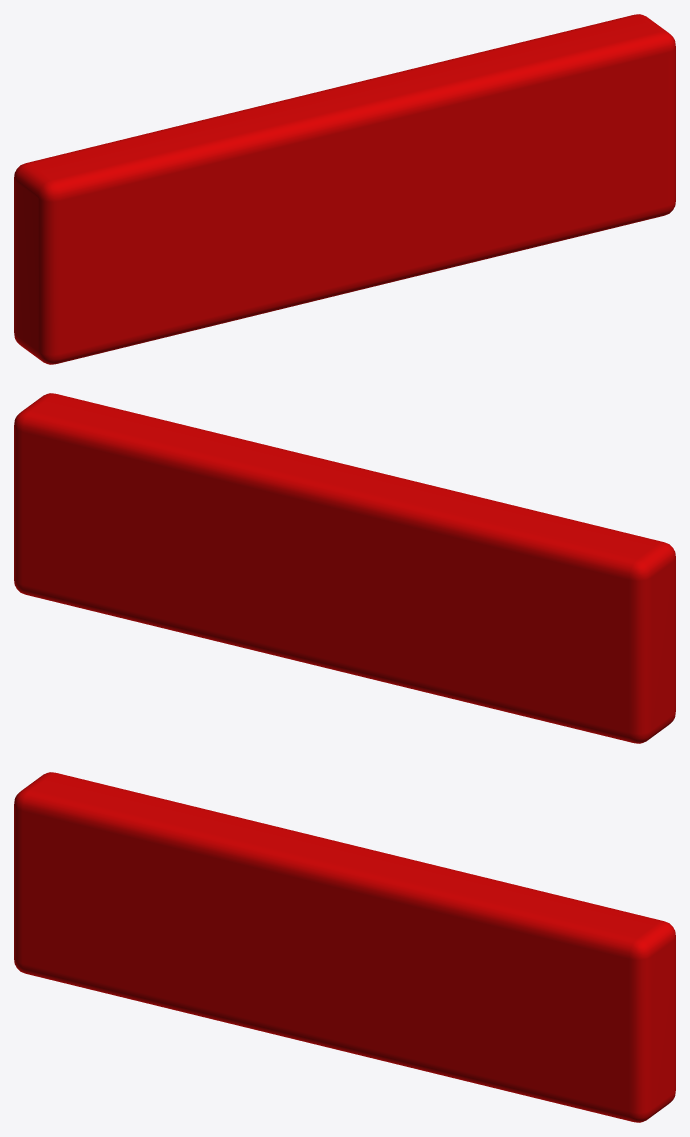
Rendered from minus-sign.glb.
3 renders of one model, top to bottom at view 1: azimuth 30°, elevation 25°; view 2: azimuth 150°, elevation 25°; view 3: azimuth 330°, elevation 25°, orthographic.
Visible parts, largest first — view 1: minus_sign.1; view 2: minus_sign.1; view 3: minus_sign.1.
Part boxes in pixels (x1,y1,x2,y2): minus_sign.1: (14,14,675,364); minus_sign.1: (14,393,675,743); minus_sign.1: (14,772,675,1122).
Bounding box in the file's own units: 0.2134 × 0.0587 × 0.022.
1 material, 1 textured.
